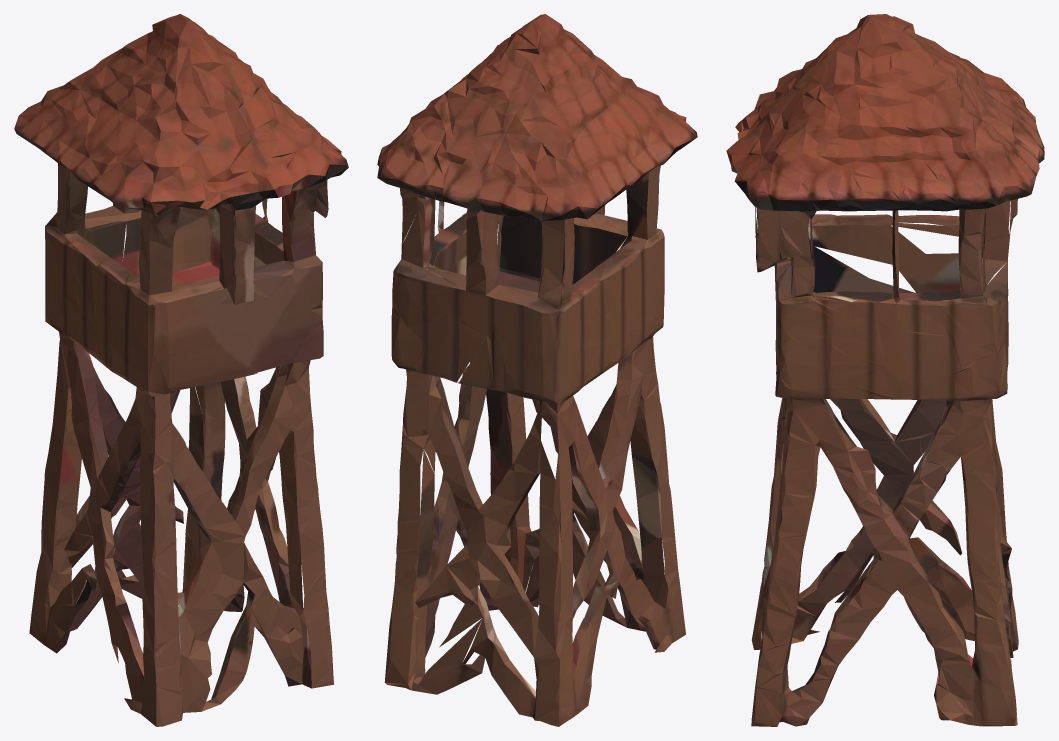
The model's file is palisade_tower.glb.
3 renders of one model, left to right at view 1: azimuth 30°, elevation 25°; view 2: azimuth 150°, elevation 25°; view 3: azimuth 270°, elevation 25°, orthographic. The views are drawn at different scales.
Parts seen in each view (by area): view 1: geometry_0; view 2: geometry_0; view 3: geometry_0.
Boxes of the visible parts, <box> form: geometry_0: <box>14,14,348,726</box>; geometry_0: <box>377,14,697,726</box>; geometry_0: <box>726,14,1044,726</box>.
Size of the model in its own units: 0.9498 by 2.6 by 1.12.
1 material, 1 textured.
